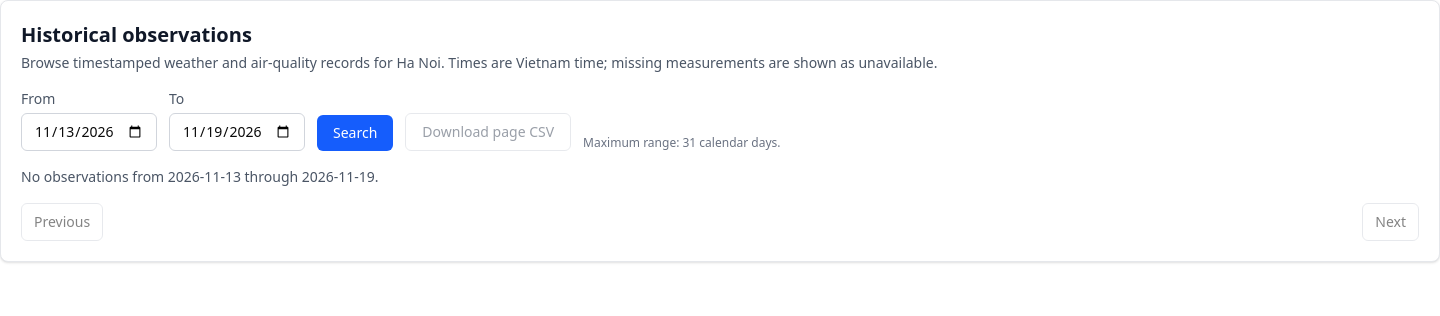
Test: HistoryBrowser › rejects ranges over the API limit without issuing a new request
Check: the text "No observations from 2026-11-13 through 2026-11-19." is shown, box [21,167,379,186]
Type "2026-01-01" into the date field labelled "From" at point(89, 132), box [21,113,157,151]
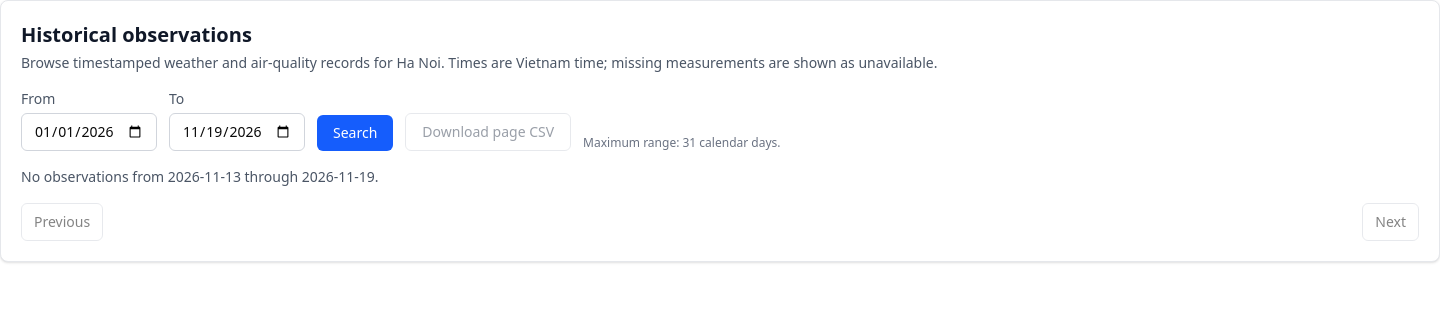
Type "2026-02-01" into the date field labelled "To" at point(237, 132), box [169,113,305,151]
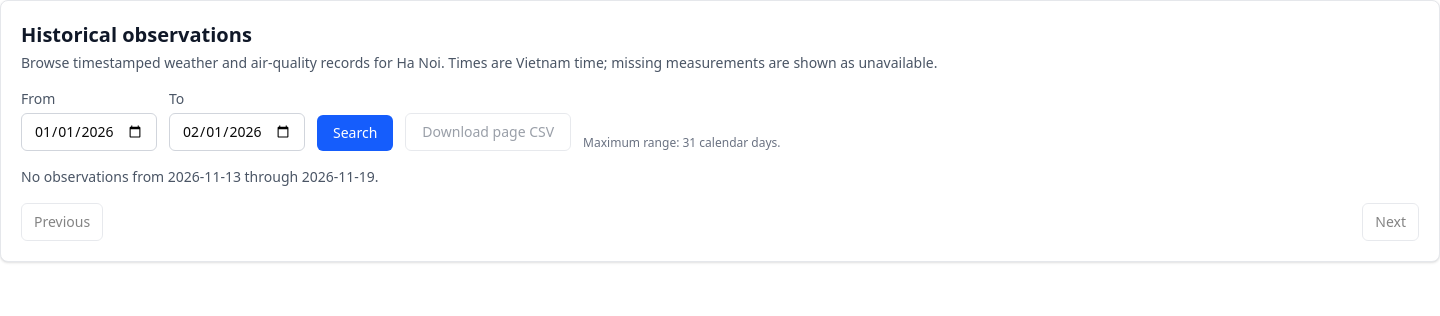
Click the button "Search" at point(355, 133), box [317,115,393,151]
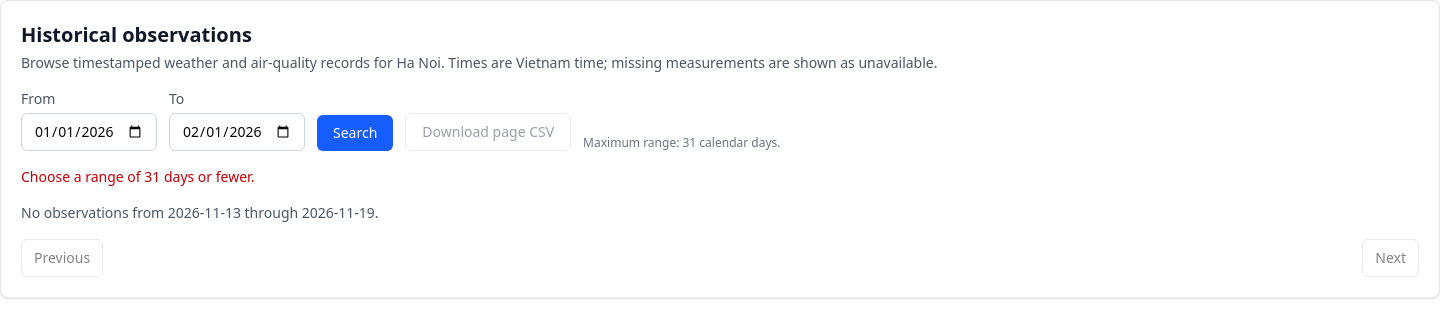
Check: the message "Choose a range of 31 days or fewer." is shown, box [21,167,254,186]
